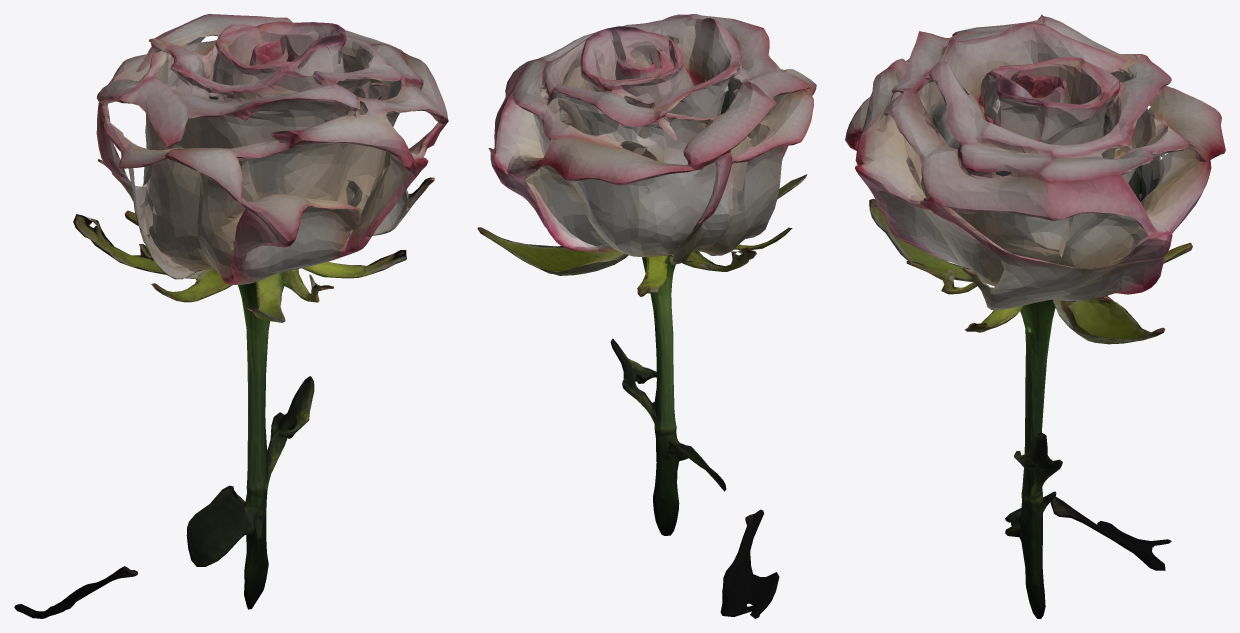
The picture shows the model from 3 angles, left to right: view 1: azimuth 30°, elevation 25°; view 2: azimuth 150°, elevation 25°; view 3: azimuth 270°, elevation 25°; orthographic projection. The views are drawn at different scales.
Parts seen in each view (by area): view 1: world; view 2: world; view 3: world.
Boxes of the visible parts, left/top/right/bottom form: world: left=14, top=14, right=448, bottom=618; world: left=477, top=14, right=816, bottom=618; world: left=845, top=14, right=1225, bottom=618.
Bounding box in the file's own units: 0.6161 × 0.9868 × 0.579.
1 material, 1 textured.
